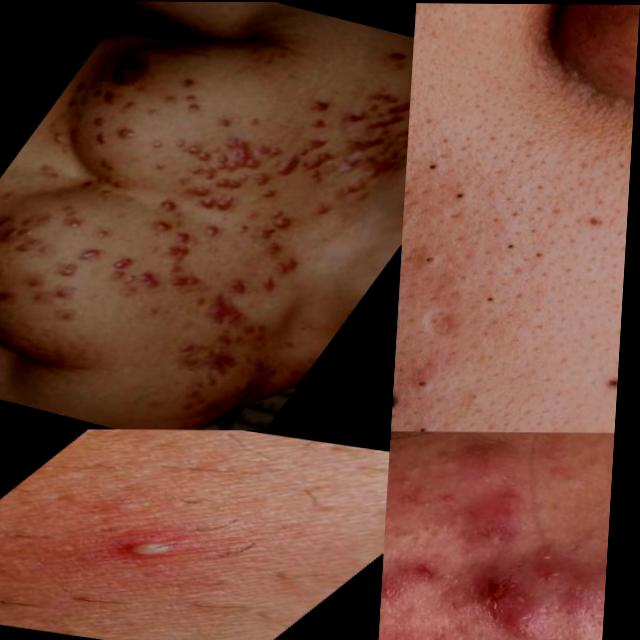6: (154, 286, 292, 382), (188, 126, 289, 195), (331, 144, 406, 206), (221, 180, 290, 245), (142, 240, 223, 292), (335, 86, 412, 134), (140, 207, 224, 250), (288, 90, 352, 137), (74, 161, 138, 202), (86, 116, 150, 156), (250, 253, 308, 297), (176, 182, 252, 215), (98, 250, 160, 290), (253, 205, 307, 243), (54, 242, 106, 281), (299, 146, 346, 184), (386, 93, 411, 152), (0, 209, 33, 249), (215, 272, 260, 301), (270, 150, 310, 182), (376, 46, 413, 71), (57, 212, 92, 237), (174, 91, 209, 115), (90, 223, 123, 243)
blackheads: (466, 574, 561, 631), (419, 304, 479, 343), (595, 542, 615, 601)
dark spot: (402, 354, 456, 399), (410, 133, 460, 181), (467, 277, 515, 319), (410, 236, 458, 273), (444, 171, 486, 209), (401, 410, 454, 431), (400, 286, 416, 320), (404, 203, 420, 235)
whiteheads: (87, 524, 212, 570)
